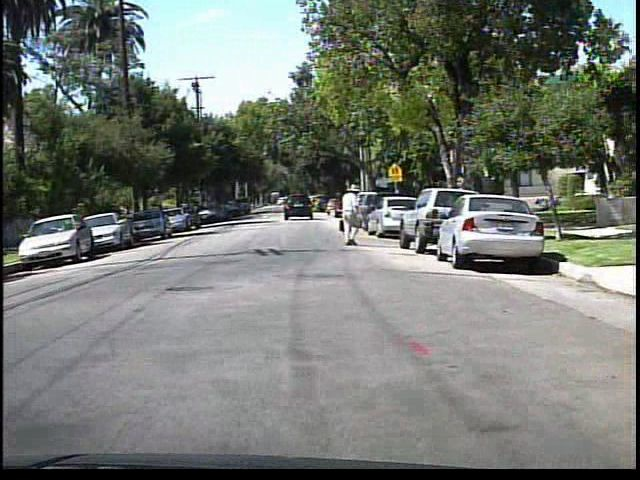person: (335, 183, 367, 248)
